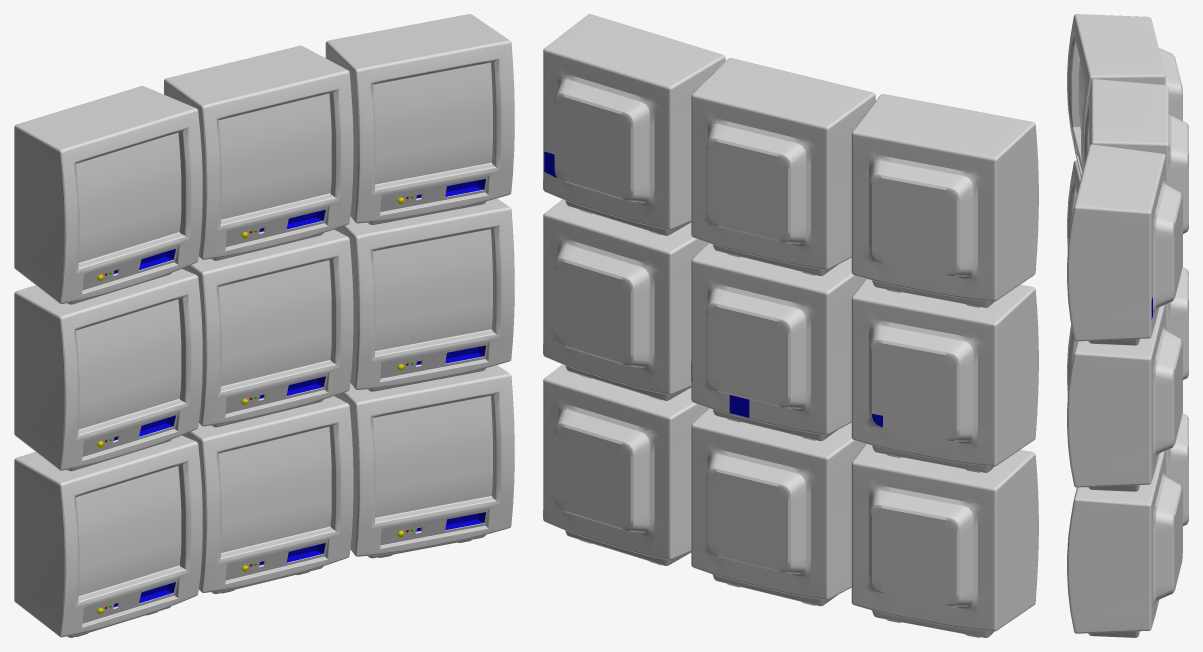
File: FBX_wall_monitor.fbx
3 views of the same model, side by side, from view 1: azimuth 30°, elevation 25°; view 2: azimuth 150°, elevation 25°; view 3: azimuth 270°, elevation 25° (orthographic). The views are drawn at different scales.
Visible parts, largest first — view 1: wall_monitor_body, Screen_3, Screen_6, Screen_9, Screen_2, Screen_8, Screen_5, Screen_1, Screen_4, Screen_7; view 2: wall_monitor_body; view 3: wall_monitor_body, Screen_1.
Part boxes in pixels (x1=…): wall_monitor_body: x1=14, y1=14, x2=514, y2=637; Screen_3: x1=373, y1=62, x2=492, y2=184; Screen_6: x1=373, y1=229, x2=492, y2=350; Screen_9: x1=373, y1=396, x2=492, y2=517; Screen_2: x1=219, y1=93, x2=331, y2=219; Screen_8: x1=219, y1=426, x2=331, y2=552; Screen_5: x1=219, y1=260, x2=331, y2=386; Screen_1: x1=76, y1=132, x2=181, y2=262; Screen_4: x1=76, y1=299, x2=181, y2=429; Screen_7: x1=76, y1=466, x2=181, y2=595; wall_monitor_body: x1=543, y1=14, x2=1038, y2=637; wall_monitor_body: x1=1067, y1=14, x2=1188, y2=637; Screen_1: x1=1078, y1=60, x2=1085, y2=125.
Size of the model in its own units: 85.59 by 89.81 by 22.45.
